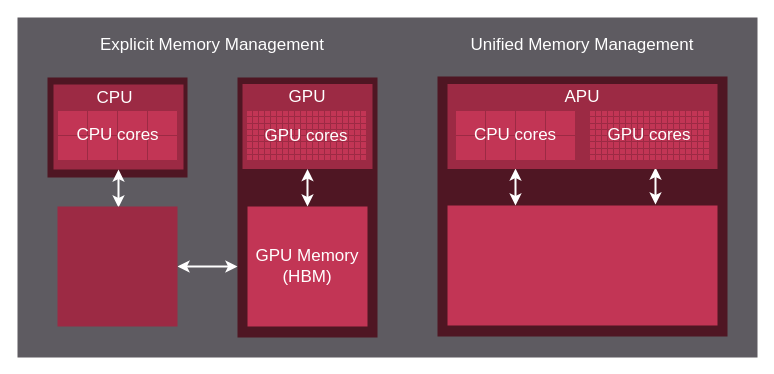
Image size: 774x374. Some labels were removed from this diagram. The box of each missing label's shape, as (x1, y1, x2, y2) in pixels:
CPU Memory (RAM): (57, 206, 177, 326)
Unified Memory (HBM): (447, 205, 717, 325)
